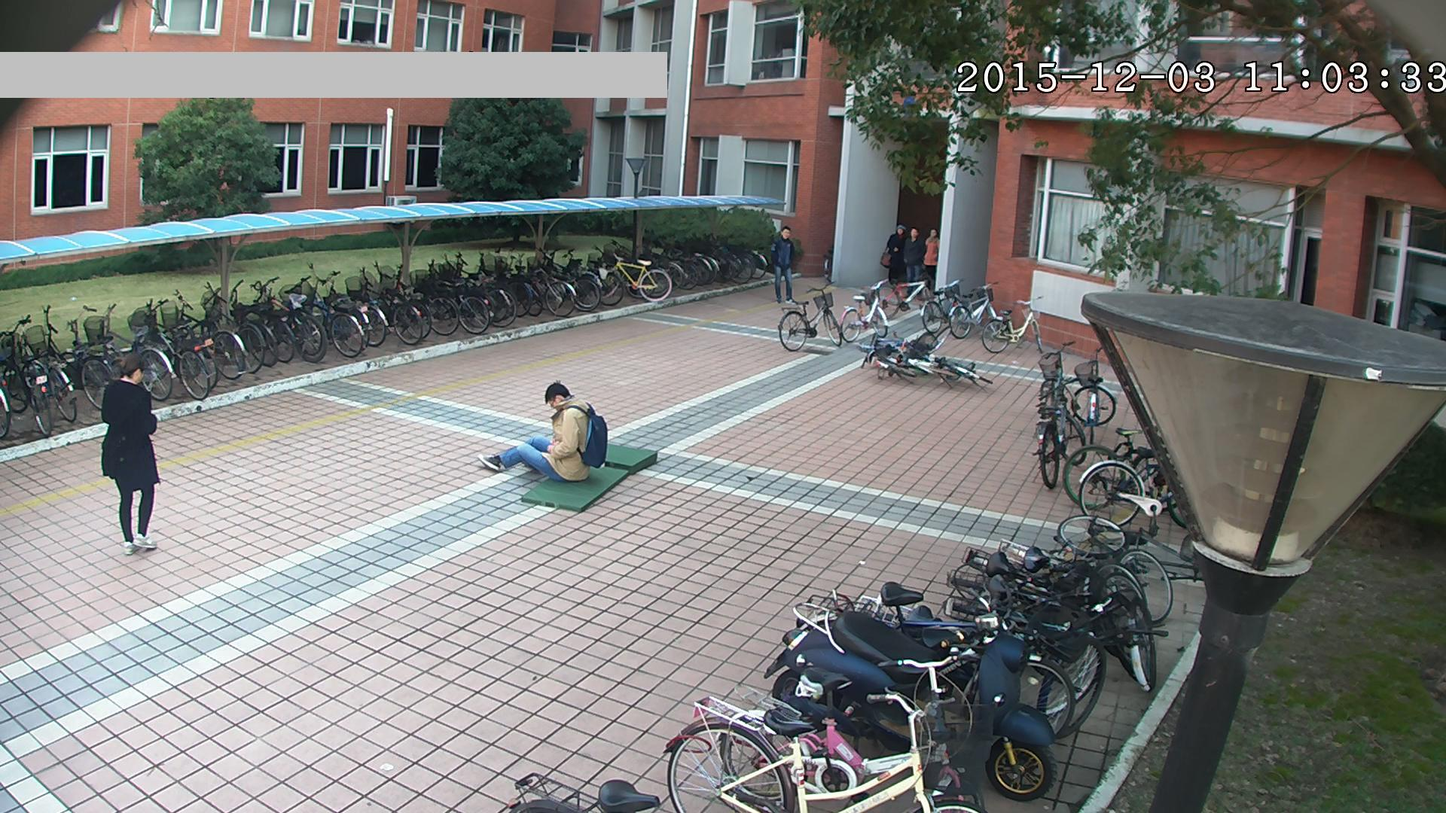person: (94, 352, 167, 559), (485, 376, 607, 488), (761, 219, 803, 307)
